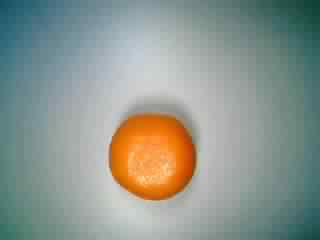orange: (103, 108, 199, 204)
